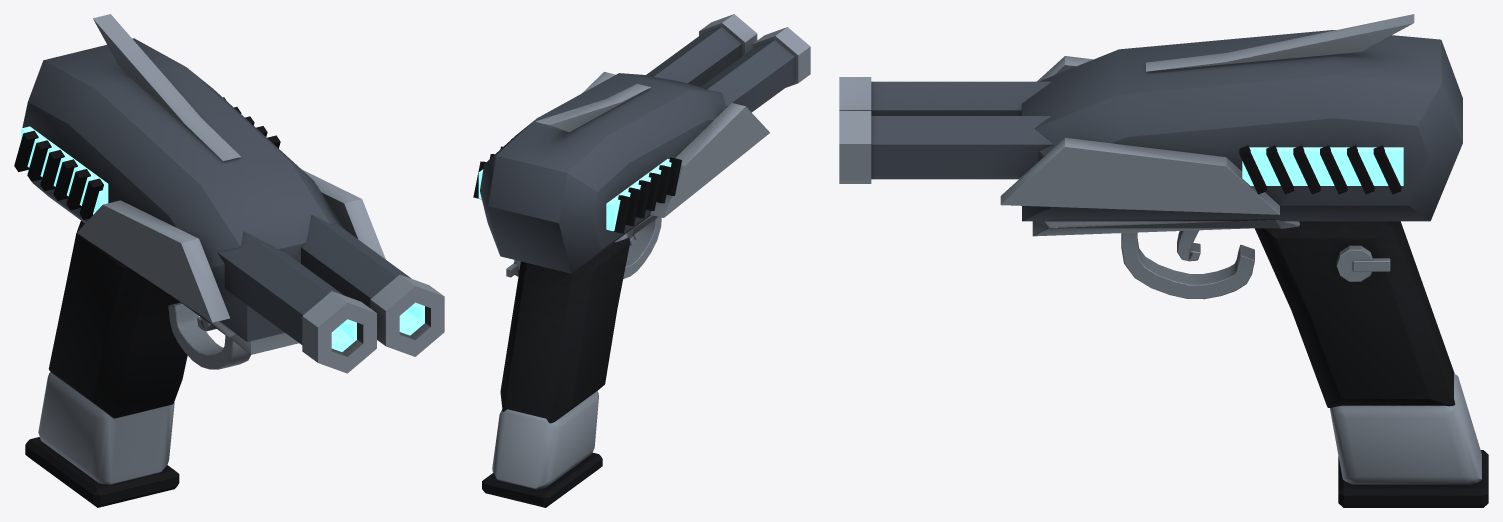
File: blaster_iones.fbx
The picture shows the model from 3 angles, left to right: view 1: azimuth 30°, elevation 25°; view 2: azimuth 150°, elevation 25°; view 3: azimuth 270°, elevation 25°; orthographic projection. The views are drawn at different scales.
Visible parts, largest first — view 1: BlasterIones_Cuerpo, BlasterIones_Grip, BlasterIones_Cargador, BlasterIones_Canon_Der, BlasterIones_Canon_Izq, BlasterIones_Neon_01, BlasterIones_Neon_02; view 2: BlasterIones_Cuerpo, BlasterIones_Grip, BlasterIones_Cargador, BlasterIones_Canon_Der, BlasterIones_Canon_Izq, BlasterIones_Neon_02; view 3: BlasterIones_Cuerpo, BlasterIones_Grip, BlasterIones_Cargador, BlasterIones_Canon_Izq, BlasterIones_Canon_Der, BlasterIones_Neon_02.
Boxes of the visible parts, bbox=[...] form: BlasterIones_Cuerpo: bbox=[14, 14, 385, 354]; BlasterIones_Grip: bbox=[48, 220, 250, 418]; BlasterIones_Cargador: bbox=[25, 372, 179, 507]; BlasterIones_Canon_Der: bbox=[217, 231, 376, 373]; BlasterIones_Canon_Izq: bbox=[301, 215, 444, 356]; BlasterIones_Neon_01: bbox=[331, 302, 424, 351]; BlasterIones_Neon_02: bbox=[21, 126, 108, 214]; BlasterIones_Cuerpo: bbox=[473, 72, 769, 273]; BlasterIones_Grip: bbox=[500, 217, 661, 423]; BlasterIones_Cargador: bbox=[482, 391, 602, 507]; BlasterIones_Canon_Der: bbox=[701, 27, 810, 112]; BlasterIones_Canon_Izq: bbox=[646, 14, 757, 86]; BlasterIones_Neon_02: bbox=[478, 159, 671, 231]; BlasterIones_Cuerpo: bbox=[1000, 14, 1462, 236]; BlasterIones_Grip: bbox=[1121, 221, 1454, 407]; BlasterIones_Cargador: bbox=[1330, 373, 1488, 507]; BlasterIones_Canon_Izq: bbox=[839, 111, 1053, 183]; BlasterIones_Canon_Der: bbox=[839, 77, 1051, 115]; BlasterIones_Neon_02: bbox=[1242, 147, 1403, 185].
Bounding box in the file's own units: 0.1162 × 0.2702 × 0.3383.
Materials: 3 (1 with a texture image).
